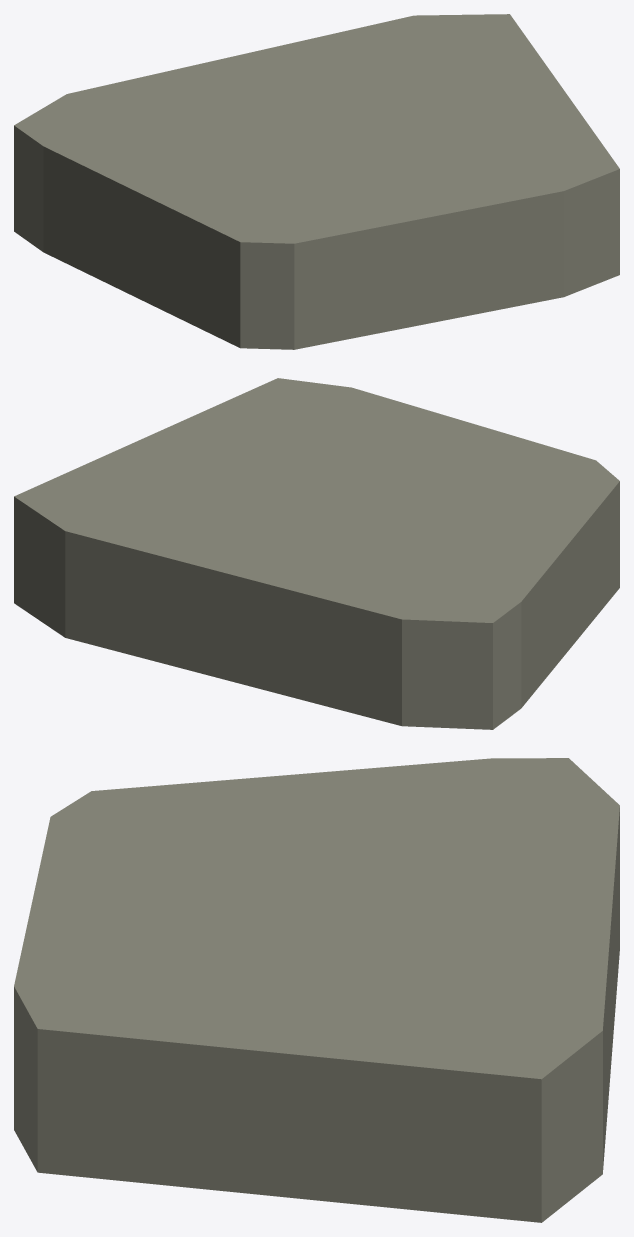
The model's file is Tile5.fbx.
The picture shows the model from 3 angles, top to bottom: view 1: azimuth 30°, elevation 25°; view 2: azimuth 150°, elevation 25°; view 3: azimuth 270°, elevation 25°; orthographic projection. The views are drawn at different scales.
Parts seen in each view (by area): view 1: Tile5; view 2: Tile5; view 3: Tile5.
Part boxes in pixels (x1=…): Tile5: x1=14, y1=14, x2=619, y2=349; Tile5: x1=14, y1=378, x2=619, y2=729; Tile5: x1=14, y1=758, x2=619, y2=1222.
Bounding box in the file's own units: 0.1804 × 0.0376 × 0.1439.
